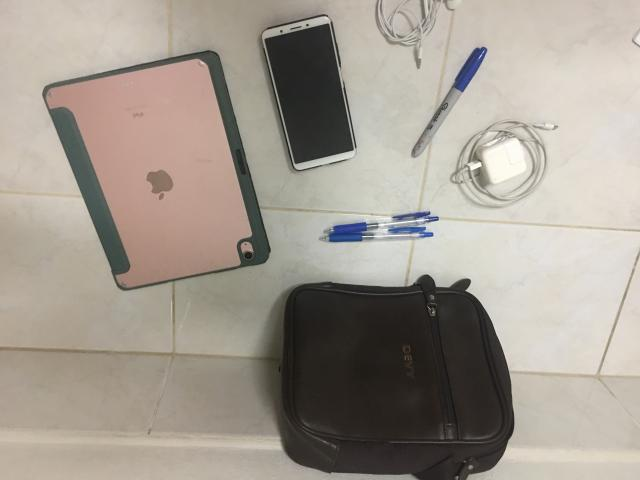Mobile phone: (261, 15, 356, 170)
Pen: (411, 48, 486, 156), (324, 212, 439, 241)
wire: (454, 119, 558, 208), (376, 0, 461, 69)
